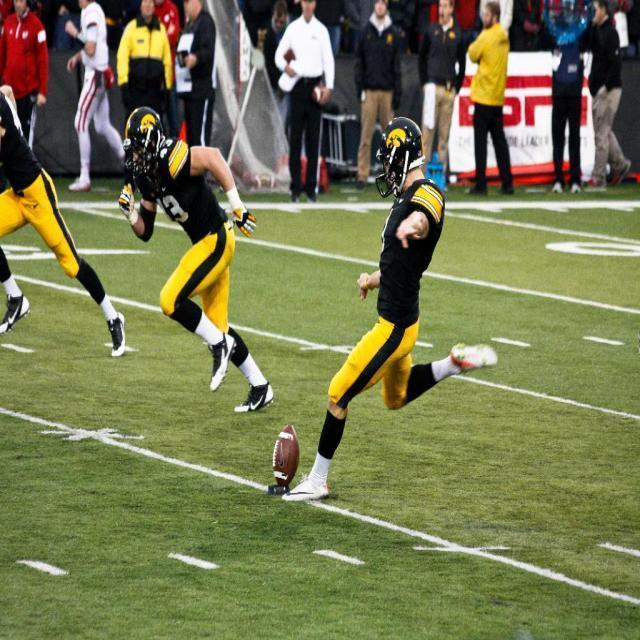ball: (267, 427, 301, 490)
